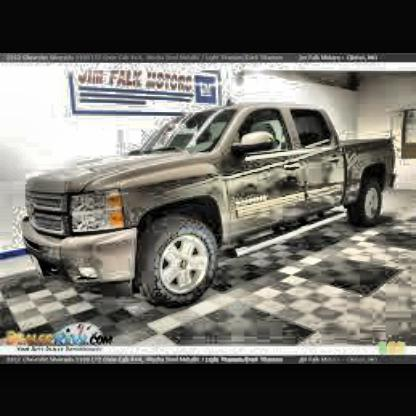Chevrolet Silverado 1500 Hybrid Crew Cab 2012: (22, 99, 401, 307)
